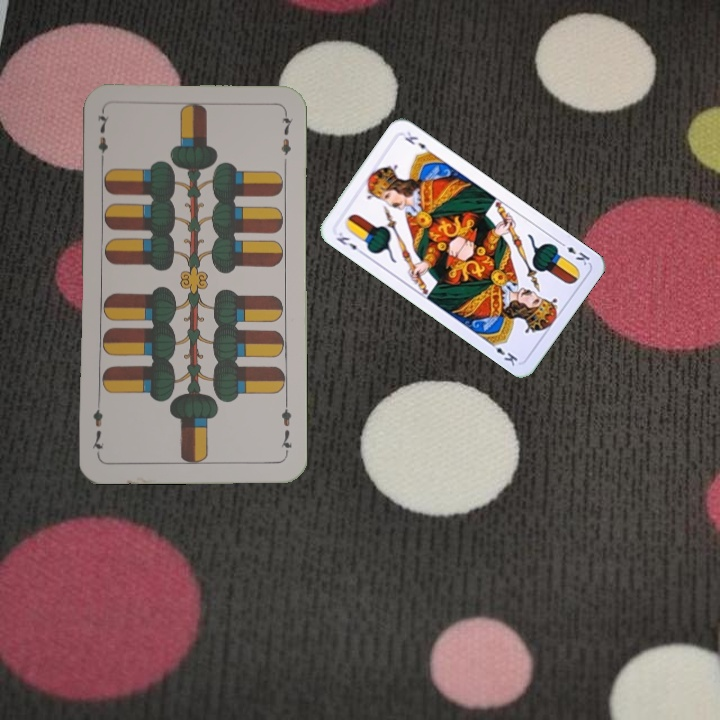E7: (277, 398, 295, 457), (93, 109, 111, 168)
EK: (555, 237, 592, 268), (332, 228, 366, 257)
